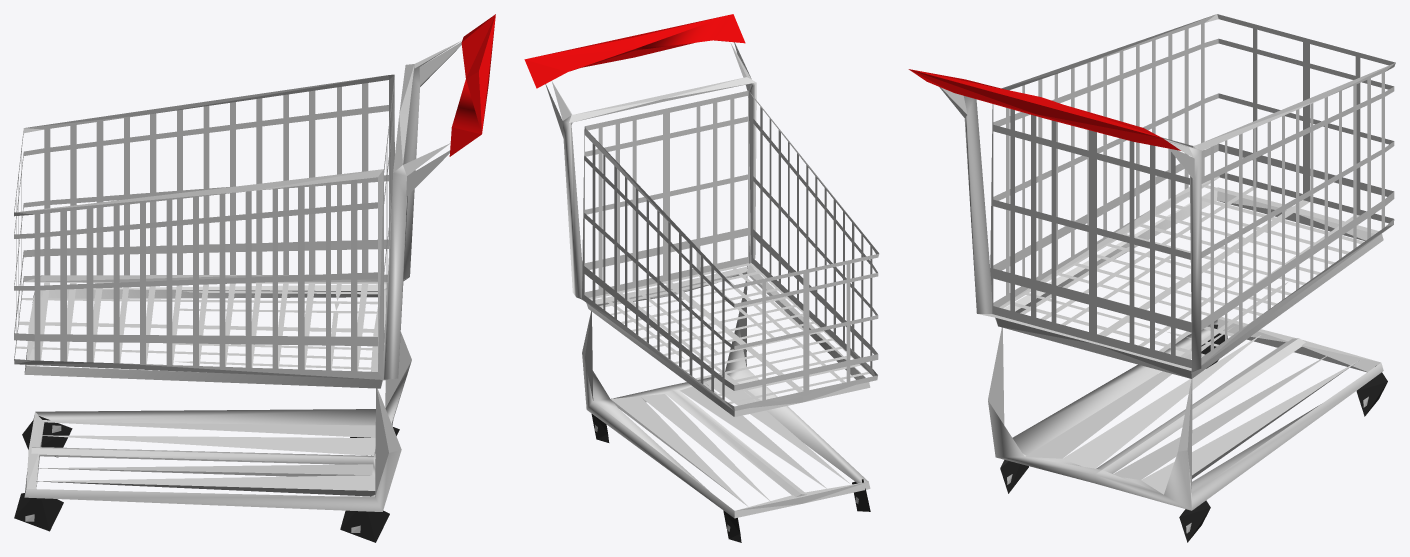
Rendered from chariot.glb.
3 views of the same model, side by side, from view 1: azimuth 30°, elevation 25°; view 2: azimuth 150°, elevation 25°; view 3: azimuth 270°, elevation 25° (orthographic). The views are drawn at different scales.
Parts seen in each view (by area): view 1: chariot; view 2: chariot; view 3: chariot.
Boxes of the visible parts, x1=… form: chariot: x1=14, y1=14, x2=495, y2=542; chariot: x1=524, y1=14, x2=879, y2=542; chariot: x1=908, y1=14, x2=1395, y2=542.
Size of the model in its own units: 1.35 by 1.22 by 1.17.
